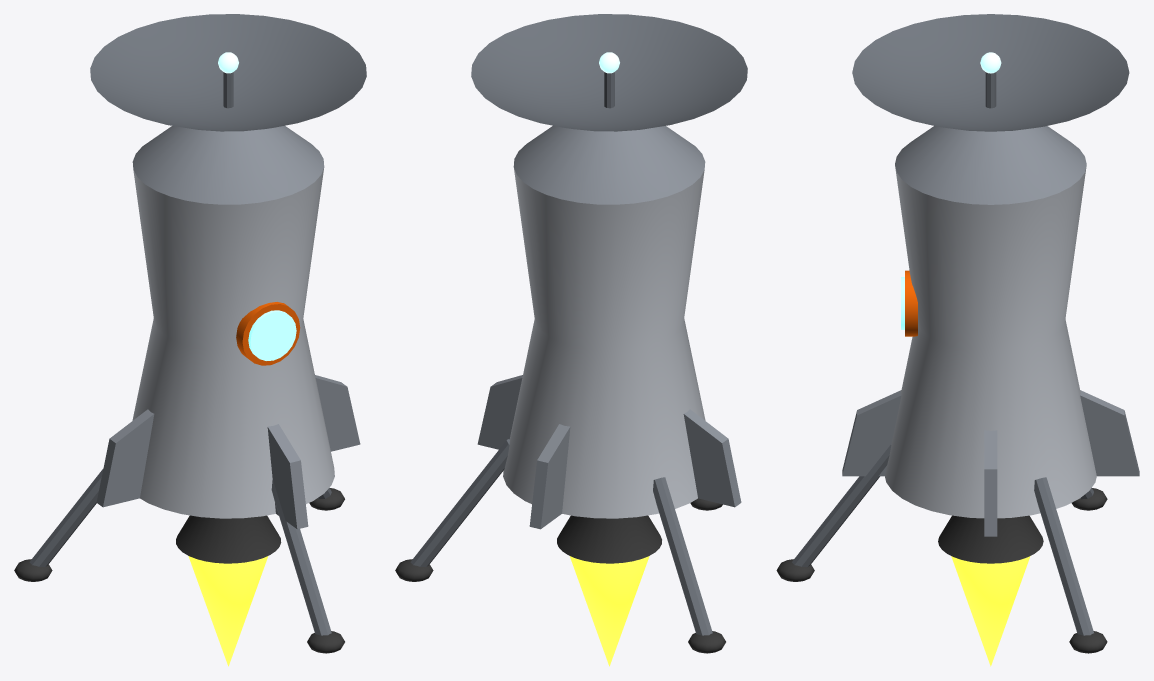
The model's file is Rocket_11_OrbiterDish.fbx.
3 views of the same model, side by side, from view 1: azimuth 30°, elevation 25°; view 2: azimuth 150°, elevation 25°; view 3: azimuth 270°, elevation 25° (orthographic).
Visible parts, largest first — view 1: R11_Body, R11_Dish, R11_Nose, R11_Nozzle_1, R11_Flame_1, R11_Fin_2, R11_Fin_3, R11_Fin_4, R11_Leg_3, R11_Window_1, R11_Leg_2, R11_WindowFrame_1 (+2 smaller); view 2: R11_Body, R11_Dish, R11_Nose, R11_Nozzle_1, R11_Flame_1, R11_Fin_2, R11_Fin_1, R11_Leg_2, R11_Leg_1, R11_Fin_4, R11_Foot_2, R11_Foot_1; view 3: R11_Body, R11_Dish, R11_Nose, R11_Flame_1, R11_Nozzle_1, R11_Fin_1, R11_Fin_3, R11_Leg_1, R11_Leg_3, R11_Fin_4, R11_WindowFrame_1, R11_Foot_1 (+1 smaller).
Boxes of the visible parts, x1,y1,x2,y2 form: R11_Body: [132, 167, 334, 518]; R11_Dish: [90, 14, 366, 131]; R11_Nose: [132, 125, 324, 204]; R11_Nozzle_1: [176, 515, 281, 563]; R11_Flame_1: [188, 556, 268, 666]; R11_Fin_2: [96, 409, 154, 507]; R11_Fin_3: [267, 424, 308, 529]; R11_Fin_4: [315, 375, 360, 451]; R11_Leg_3: [271, 480, 331, 635]; R11_Window_1: [248, 310, 296, 360]; R11_Leg_2: [29, 469, 103, 567]; R11_WindowFrame_1: [236, 302, 300, 365]; R11_Body: [503, 168, 705, 518]; R11_Dish: [471, 14, 747, 131]; R11_Nose: [513, 125, 705, 204]; R11_Nozzle_1: [557, 515, 661, 563]; R11_Flame_1: [569, 556, 649, 666]; R11_Fin_2: [683, 409, 741, 507]; R11_Fin_1: [529, 424, 570, 529]; R11_Leg_2: [653, 477, 712, 635]; R11_Leg_1: [410, 439, 509, 567]; R11_Fin_4: [477, 375, 522, 449]; R11_Foot_2: [688, 631, 725, 653]; R11_Foot_1: [395, 559, 433, 581]; R11_Body: [885, 166, 1096, 518]; R11_Dish: [852, 14, 1129, 131]; R11_Nose: [895, 126, 1086, 204]; R11_Flame_1: [951, 556, 1030, 666]; R11_Nozzle_1: [938, 515, 1043, 563]; R11_Fin_1: [1080, 390, 1139, 476]; R11_Fin_3: [842, 390, 901, 476]; R11_Leg_1: [1034, 477, 1093, 635]; R11_Leg_3: [792, 445, 891, 567]; R11_Fin_4: [984, 430, 997, 536]; R11_WindowFrame_1: [905, 270, 917, 336]; R11_Foot_1: [1069, 631, 1107, 653].
Bounding box in the file's own units: 3.53 × 6.35 × 3.4.
